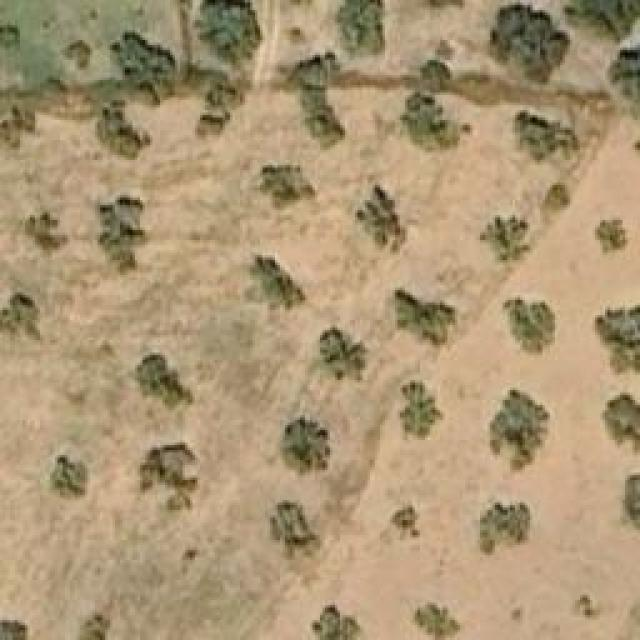Tree: (490, 5, 570, 85), (103, 30, 184, 94), (293, 53, 348, 143), (490, 390, 548, 473), (195, 0, 263, 70), (95, 195, 148, 275), (387, 288, 455, 348), (140, 445, 198, 510), (242, 255, 310, 310), (592, 305, 640, 375), (403, 95, 466, 148), (515, 110, 580, 160), (562, 0, 639, 42), (92, 100, 149, 156), (503, 298, 556, 358), (270, 502, 323, 560), (138, 355, 193, 410), (335, 0, 385, 60), (282, 418, 330, 478), (250, 165, 315, 208), (320, 325, 368, 383), (480, 503, 530, 556), (358, 185, 401, 245), (400, 383, 443, 438), (480, 218, 530, 261), (0, 292, 42, 342), (610, 35, 640, 103), (605, 395, 640, 450), (313, 605, 366, 640), (25, 213, 68, 256), (412, 602, 460, 640), (50, 455, 88, 500), (617, 475, 640, 540), (408, 58, 451, 91), (595, 217, 628, 255), (195, 110, 230, 140), (392, 505, 420, 540), (78, 612, 111, 640), (65, 40, 93, 70), (0, 612, 28, 640), (573, 595, 603, 620), (0, 25, 20, 48)
